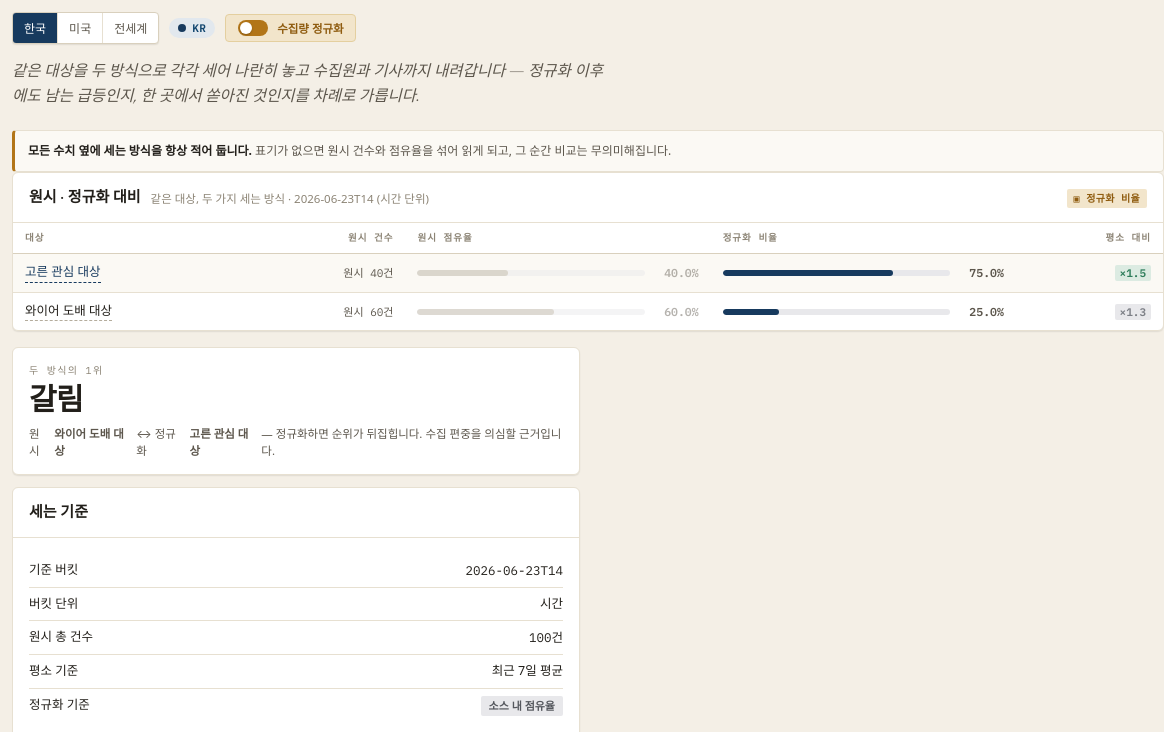
Test case: re-ranks and moves the emphasis when the counting mode is switched
Expected: the text with class "norm-flag" shows "정규화", [1074,192,1140,205]
Click the button with class "norm-toggle": (290,28) [225,14,356,42]
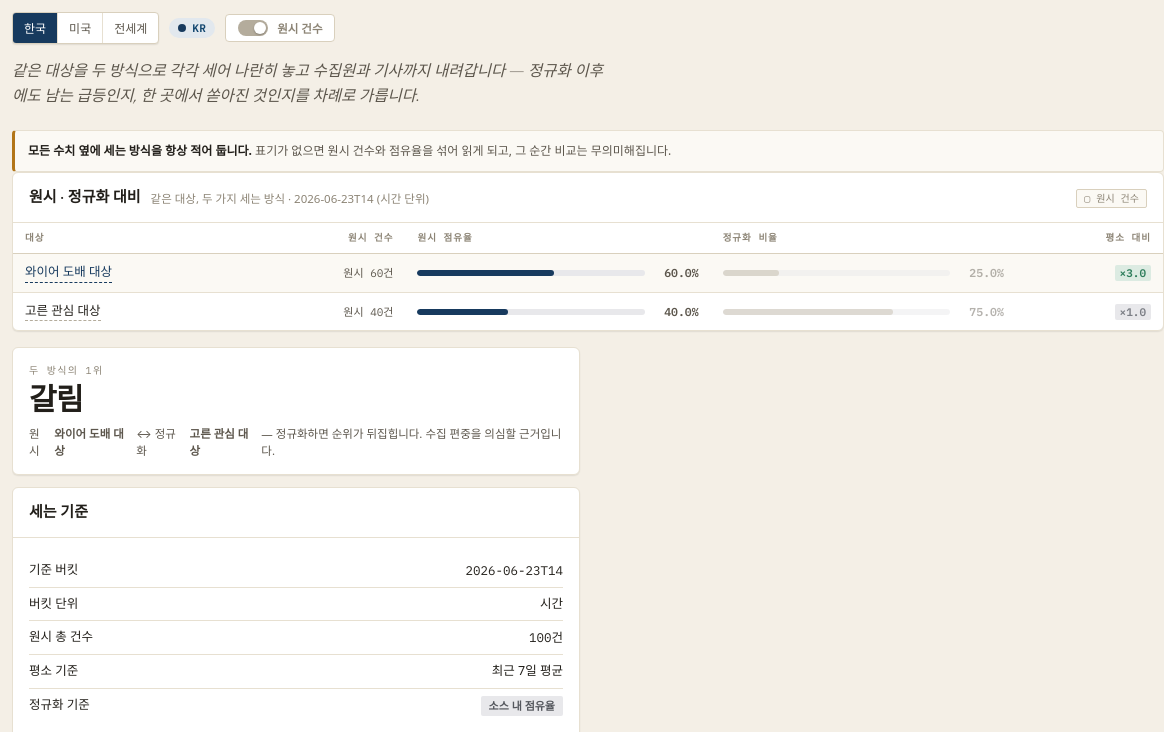
Expected: the button "와이어 도배 대상" is shown, [25,263,112,283]
Now the text with class "norm-flag" shows "원시", box [1084,192,1139,205]
